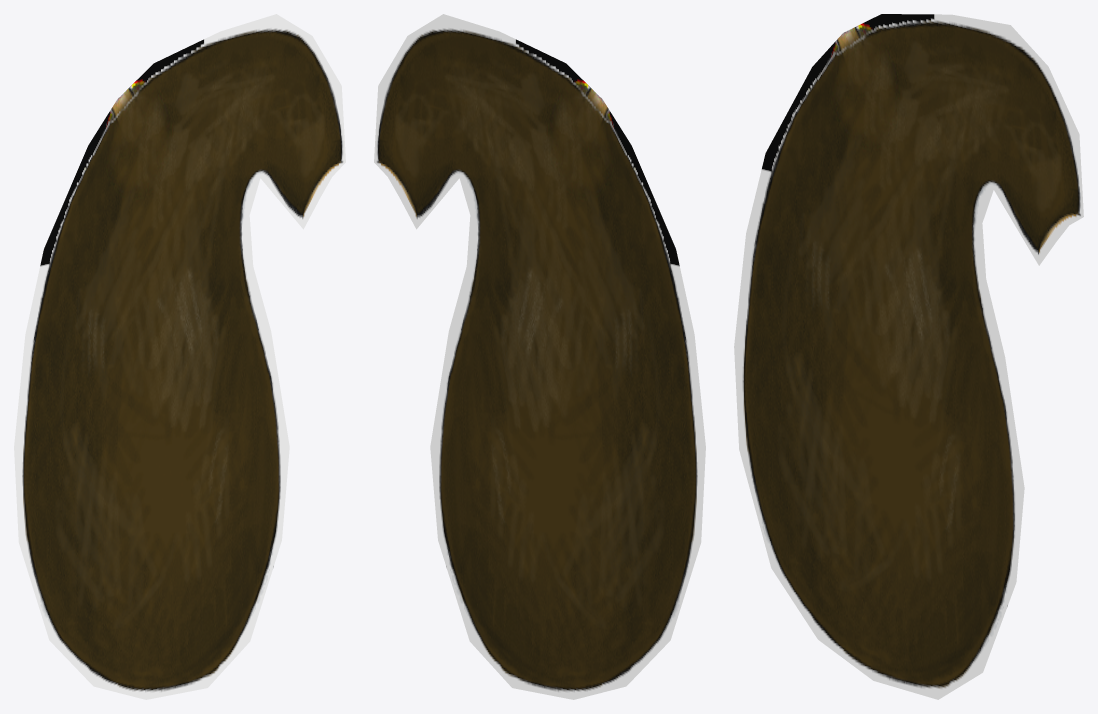
3 renders of one model, left to right at view 1: azimuth 30°, elevation 25°; view 2: azimuth 150°, elevation 25°; view 3: azimuth 330°, elevation 25°, orthographic. The views are drawn at different scales.
Parts seen in each view (by area): view 1: Plane; view 2: Plane; view 3: Plane.
Boxes of the visible parts, x1,y1,x2,y2 form: Plane: (14,14,345,699); Plane: (374,14,705,699); Plane: (734,14,1083,699).
Bounding box in the file's own units: 1.87 × 3.54 × 0.
1 material, 1 textured.
